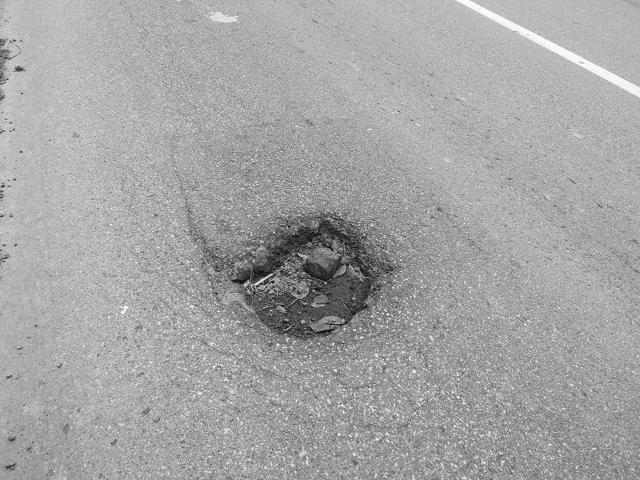Pothole: (233, 218, 383, 341)
